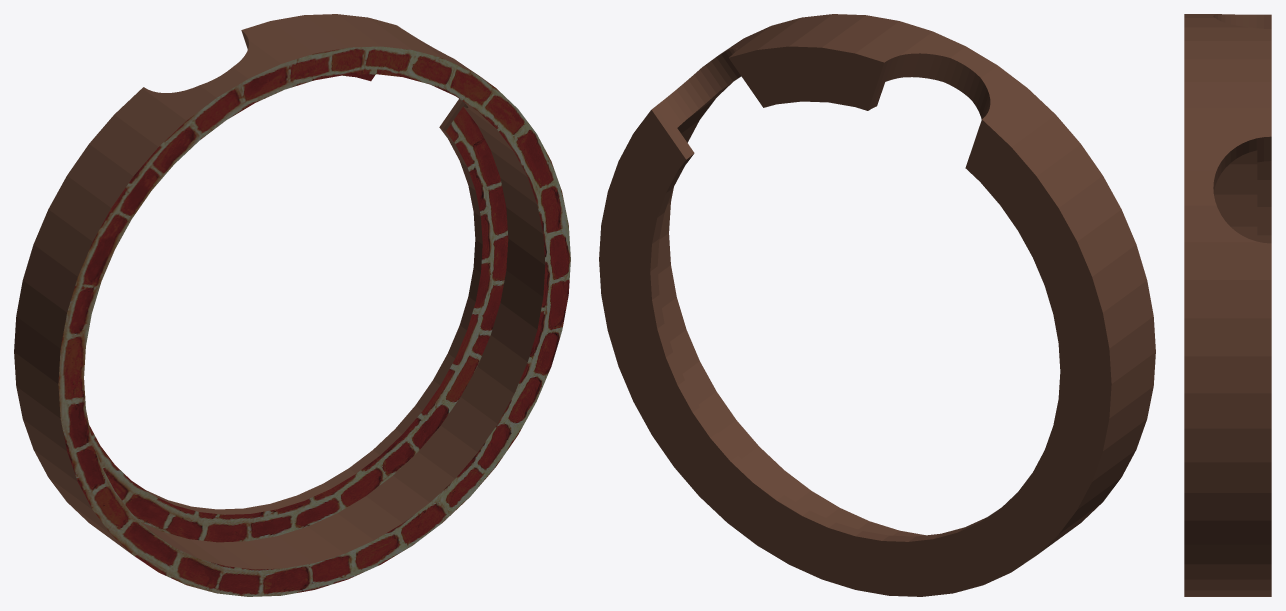
Rendered from pool_030.obj.
The picture shows the model from 3 angles, left to right: view 1: azimuth 30°, elevation 25°; view 2: azimuth 150°, elevation 25°; view 3: azimuth 270°, elevation 25°; orthographic projection.
Bounding box in the file's own units: 20 × 20 × 3.
